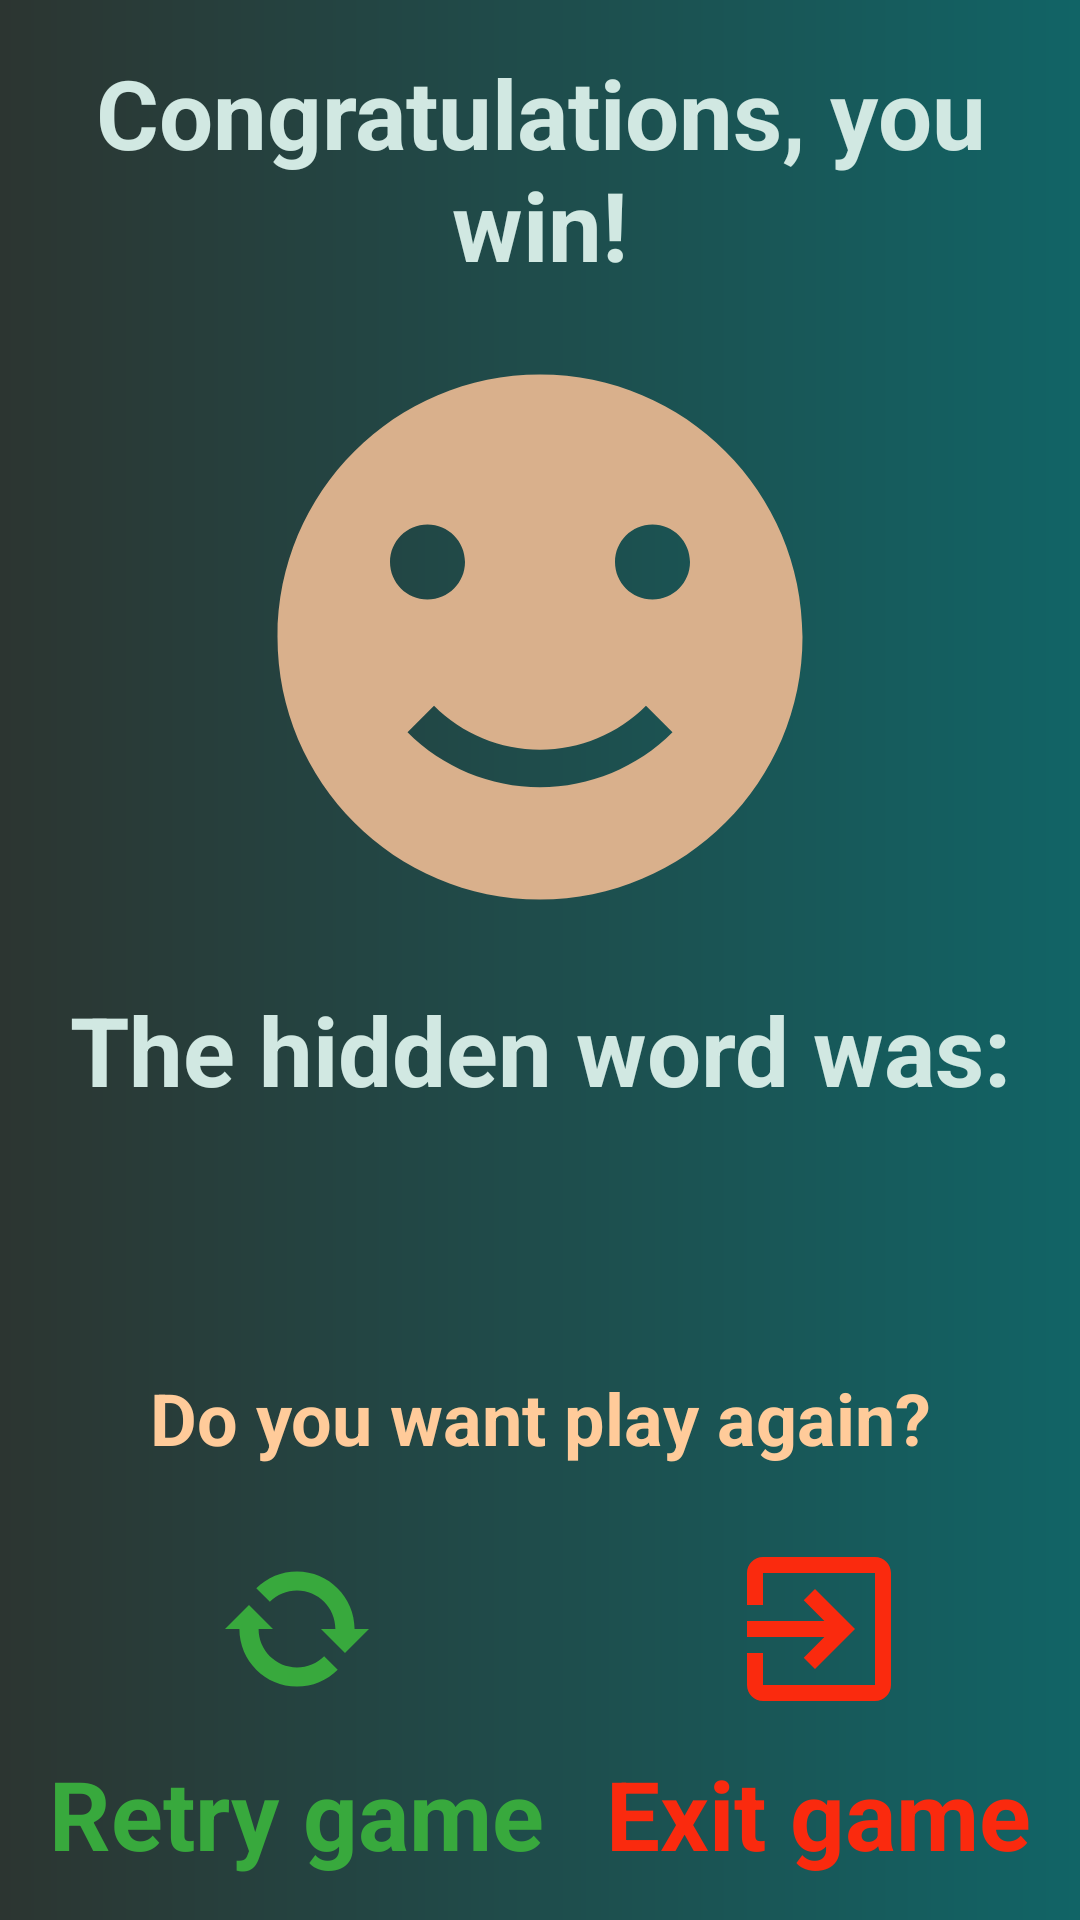

Icons on this 1080×1920 Android screen, each with its box as (x1, y1, x2, y2):
reload: (225, 1571, 369, 1687)
